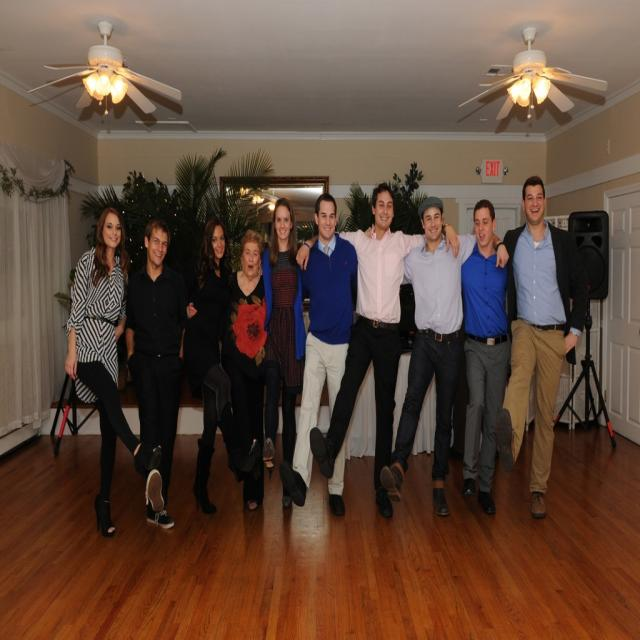Bulb: (32, 32, 188, 140), (456, 24, 608, 131)
